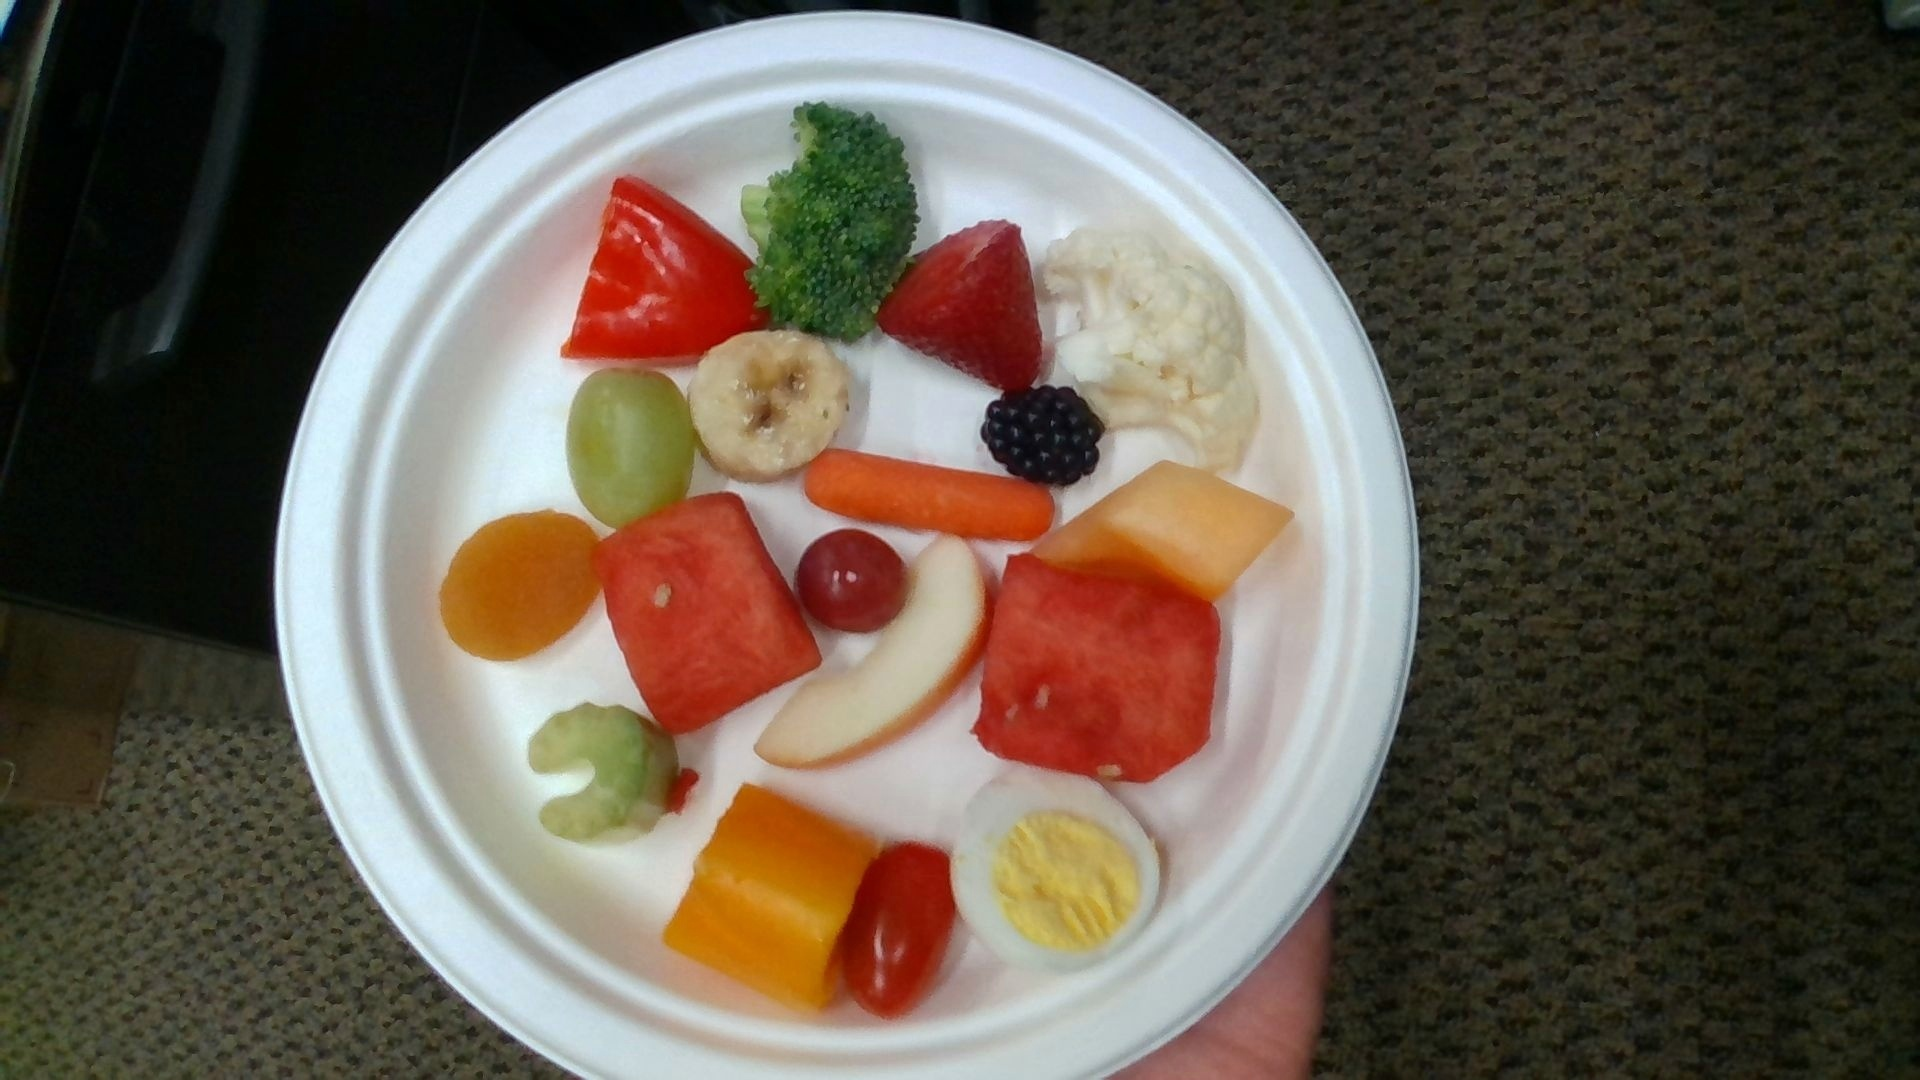apple: (757, 535, 980, 767)
apricot: (442, 512, 600, 655)
banana: (692, 331, 845, 476)
bell_pepper: (667, 786, 874, 1010), (564, 178, 771, 361)
blackberry: (982, 390, 1098, 485)
broccoli: (742, 105, 916, 342)
cantalope: (1034, 463, 1294, 597)
carrot: (804, 451, 1054, 538)
cauliflower: (1040, 228, 1255, 458)
celery: (529, 705, 676, 843)
cherry_tomato: (844, 847, 955, 1018)
egg: (953, 771, 1160, 968)
grape_green: (567, 371, 694, 527)
grape_purple: (796, 531, 910, 632)
melon: (980, 555, 1217, 781), (597, 493, 819, 731)
strawberry: (880, 222, 1044, 390)
